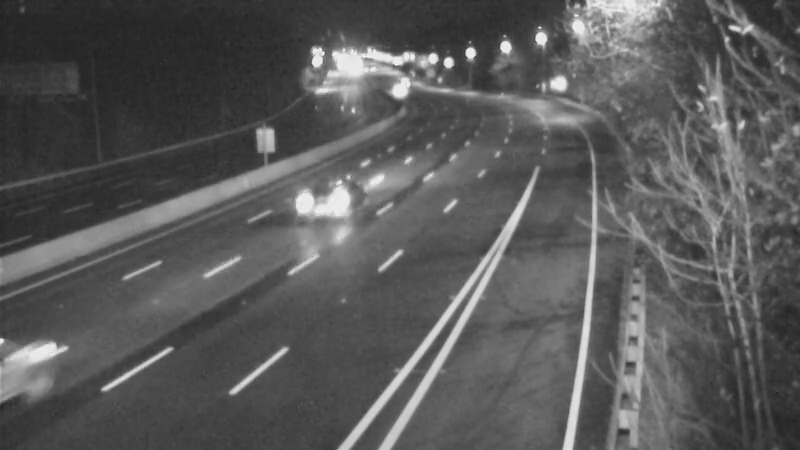vehicle: (282, 161, 362, 241)
